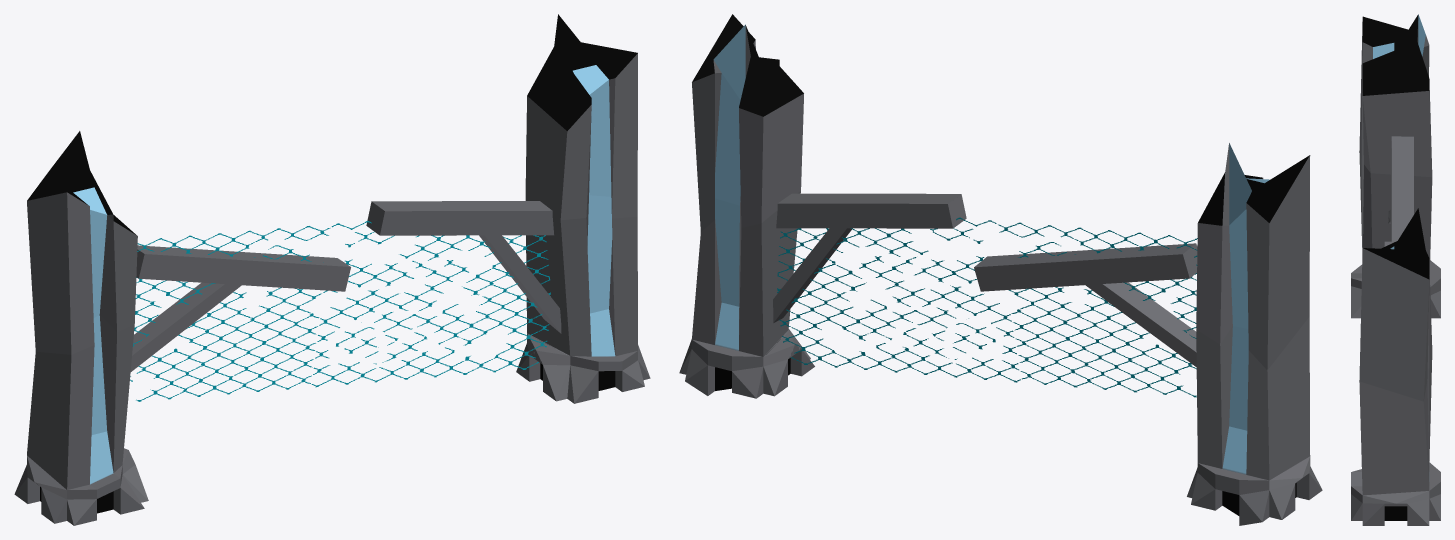
Rendered from brokenFence.fbx.
3 views of the same model, side by side, from view 1: azimuth 30°, elevation 25°; view 2: azimuth 150°, elevation 25°; view 3: azimuth 270°, elevation 25° (orthographic). The views are drawn at different scales.
Parts seen in each view (by area): view 1: Fence Stick 2 Broken, Fence Stick Broken, Fence Union Broken, Fence Plane Broken, Fence Union 2 Broken; view 2: Fence Stick Broken, Fence Stick 2 Broken, Fence Union Broken, Fence Plane Broken, Fence Union 2 Broken; view 3: Fence Stick 2 Broken, Fence Stick Broken, Fence Union Broken.
Part boxes in pixels (bbox=[...]): Fence Stick 2 Broken: bbox=[516, 14, 650, 403]; Fence Stick Broken: bbox=[14, 131, 148, 525]; Fence Union Broken: bbox=[130, 245, 350, 371]; Fence Plane Broken: bbox=[130, 221, 550, 401]; Fence Union 2 Broken: bbox=[366, 201, 561, 333]; Fence Stick Broken: bbox=[1187, 143, 1322, 525]; Fence Stick 2 Broken: bbox=[679, 14, 814, 398]; Fence Union Broken: bbox=[974, 243, 1197, 366]; Fence Plane Broken: bbox=[777, 217, 1197, 397]; Fence Union 2 Broken: bbox=[773, 193, 966, 322]; Fence Stick 2 Broken: bbox=[1351, 208, 1440, 525]; Fence Stick Broken: bbox=[1351, 14, 1440, 318]; Fence Union Broken: bbox=[1388, 136, 1413, 241].
Bounding box in the file's own units: 3.34 × 1.95 × 0.525.
